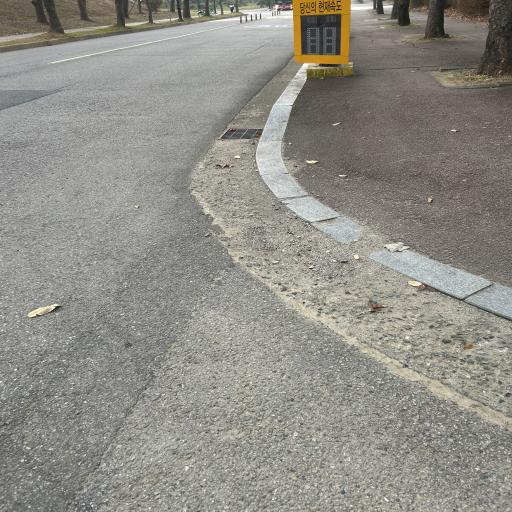drain: (219, 128, 263, 140)
